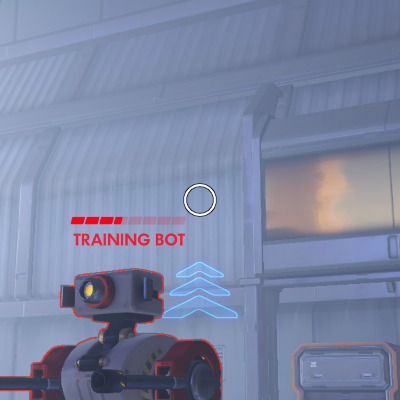hpbar: (70, 216, 186, 225)
